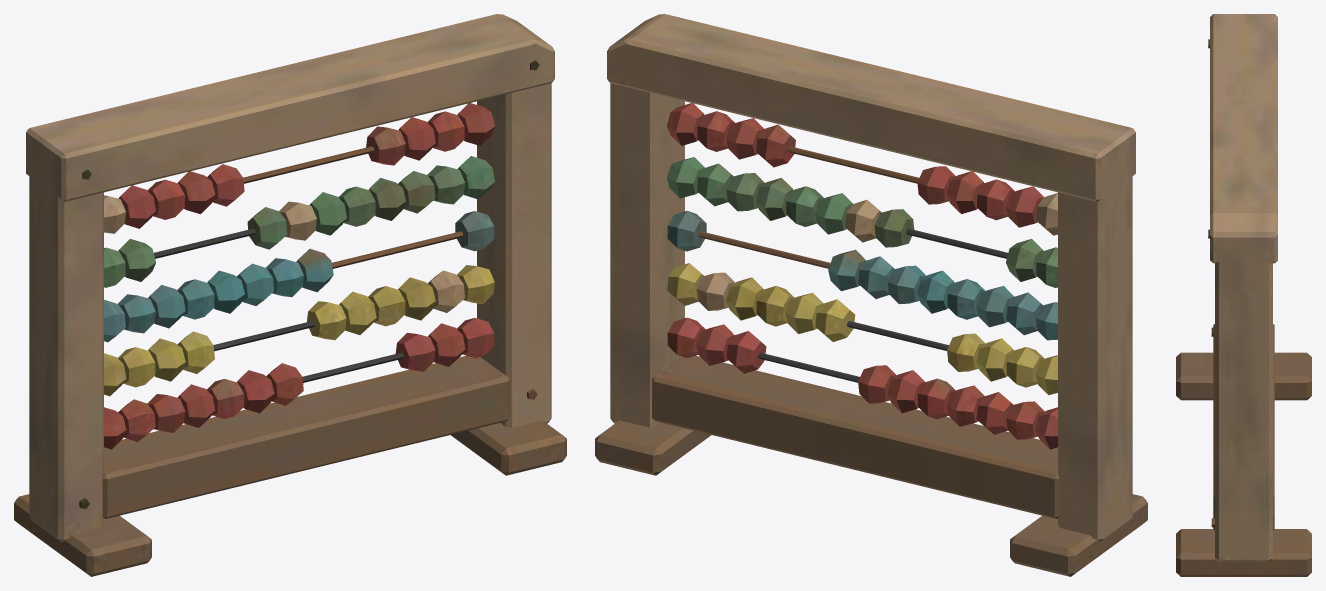
File: SE12_abacus.glb
3 renders of one model, left to right at view 1: azimuth 30°, elevation 25°; view 2: azimuth 150°, elevation 25°; view 3: azimuth 270°, elevation 25°, orthographic. The views are drawn at different scales.
Parts seen in each view (by area): view 1: Splayed-depth foot; view 2: Splayed-depth foot; view 3: Splayed-depth foot.
Part boxes in pixels (x1,y1,x2,y2): Splayed-depth foot: (14,14,566,576); Splayed-depth foot: (595,14,1147,576); Splayed-depth foot: (1176,14,1311,576).
Bounding box in the file's own units: 0.3 × 0.239 × 0.082.
Materials: 9 (9 with a texture image).
